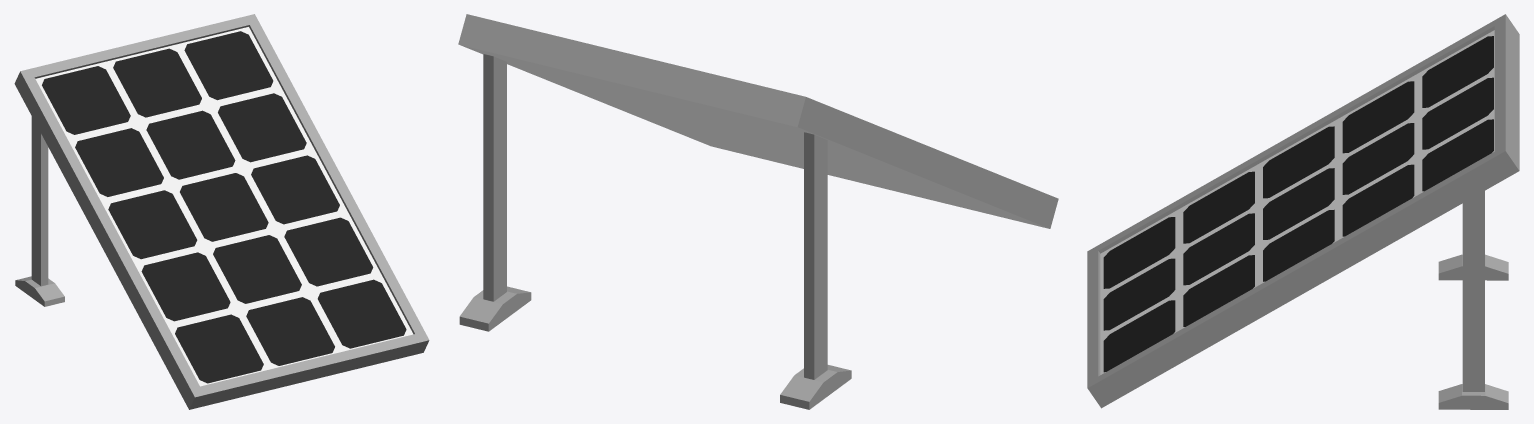
File: solar-panel-2.glb
3 renders of one model, left to right at view 1: azimuth 30°, elevation 25°; view 2: azimuth 150°, elevation 25°; view 3: azimuth 270°, elevation 25°, orthographic. The views are drawn at different scales.
Parts seen in each view (by area): view 1: SolarPanel_Ground; view 2: SolarPanel_Ground; view 3: SolarPanel_Ground.
Boxes of the visible parts, left/top/right/bottom form: SolarPanel_Ground: left=14, top=14, right=429, bottom=409; SolarPanel_Ground: left=458, top=14, right=1058, bottom=409; SolarPanel_Ground: left=1087, top=14, right=1519, bottom=409.
Bounding box in the file's own units: 1.29 × 1.1 × 1.67.
Materials: 1 (1 with a texture image).
